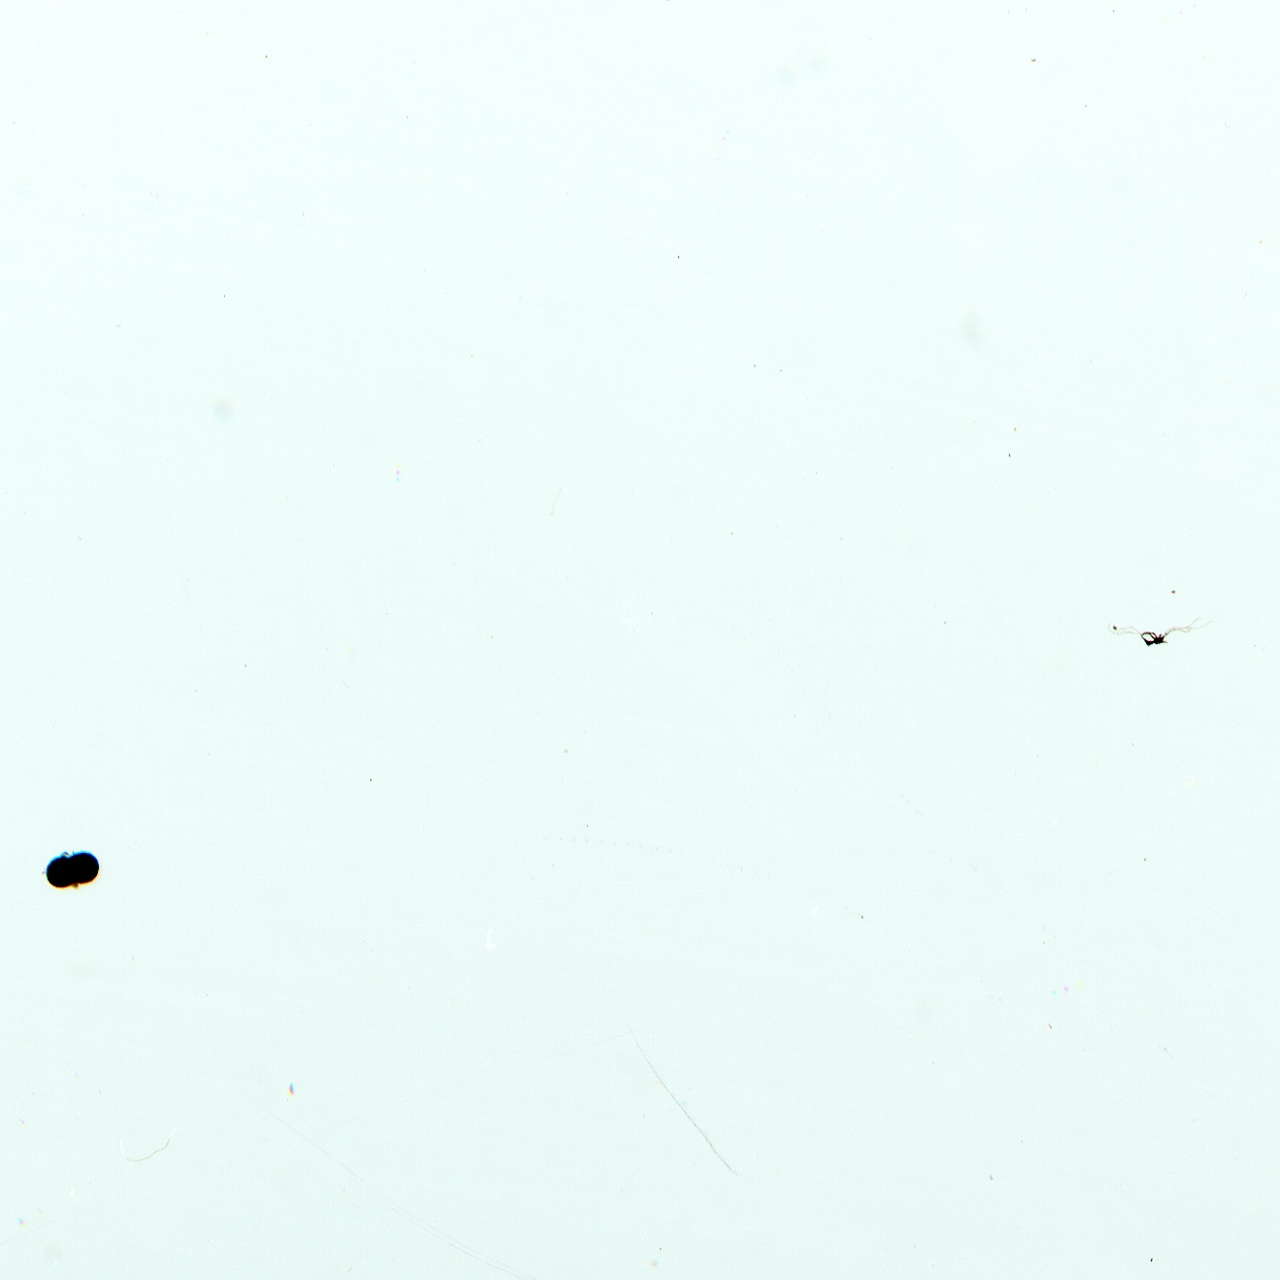arthropod: (40, 844, 105, 896)
